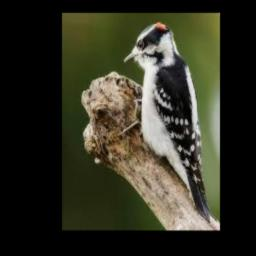Woodpecker: (117, 21, 216, 223)
